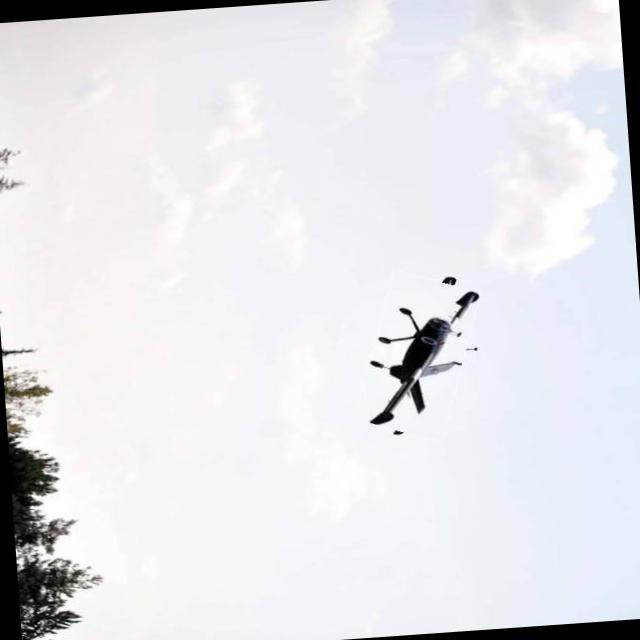UAV: (330, 252, 541, 450)
